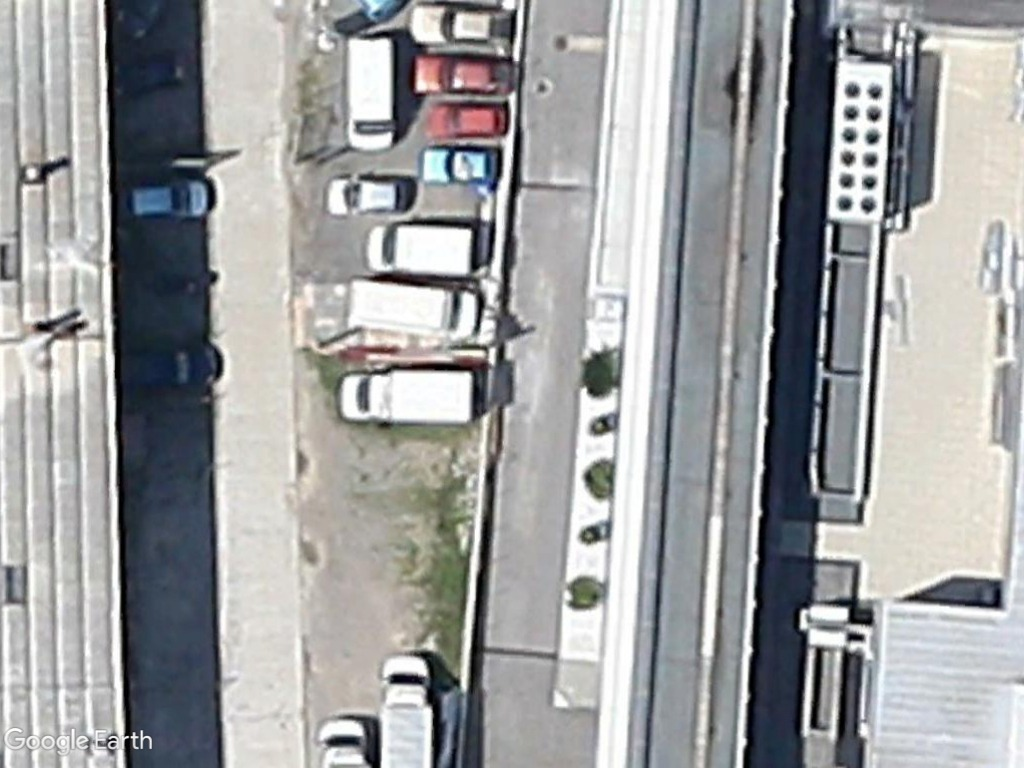car: (410, 52, 524, 97), (117, 176, 212, 223), (417, 99, 510, 146), (321, 172, 412, 219), (417, 139, 502, 185)
van: (336, 357, 478, 430), (344, 276, 481, 343), (343, 37, 402, 156), (365, 219, 483, 278)
